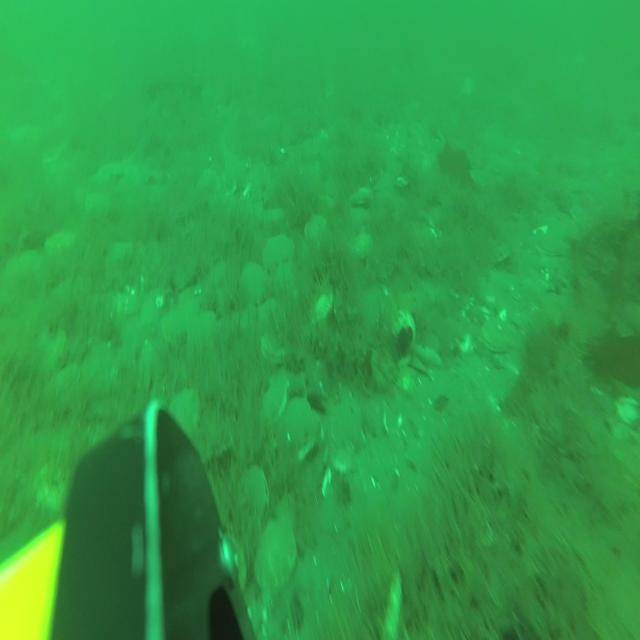scallop: (256, 522, 296, 591), (328, 395, 365, 460), (278, 402, 316, 460), (260, 380, 291, 432), (163, 297, 199, 341), (169, 382, 201, 431), (242, 463, 266, 521), (258, 298, 288, 338), (481, 316, 511, 355), (190, 306, 216, 350), (240, 260, 270, 298), (310, 283, 336, 325), (46, 229, 78, 263), (261, 330, 287, 370), (264, 235, 292, 270), (224, 157, 250, 187), (198, 165, 220, 197), (348, 231, 376, 256), (352, 180, 373, 213), (303, 214, 325, 240)
